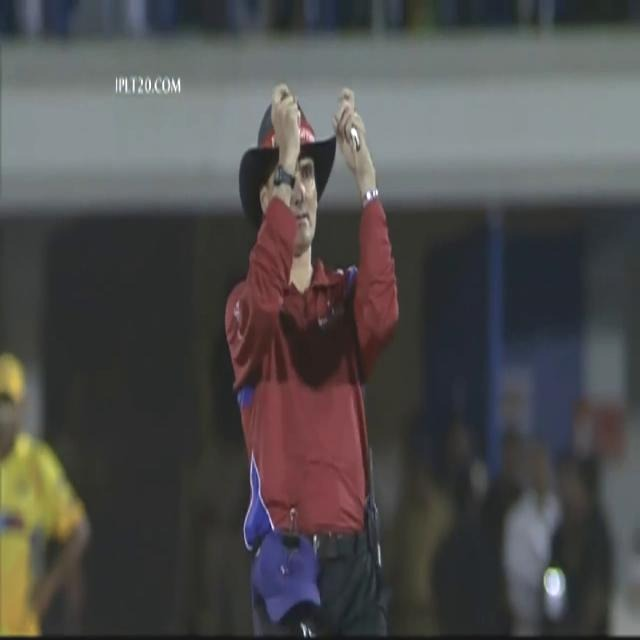Six: (214, 70, 418, 640)
